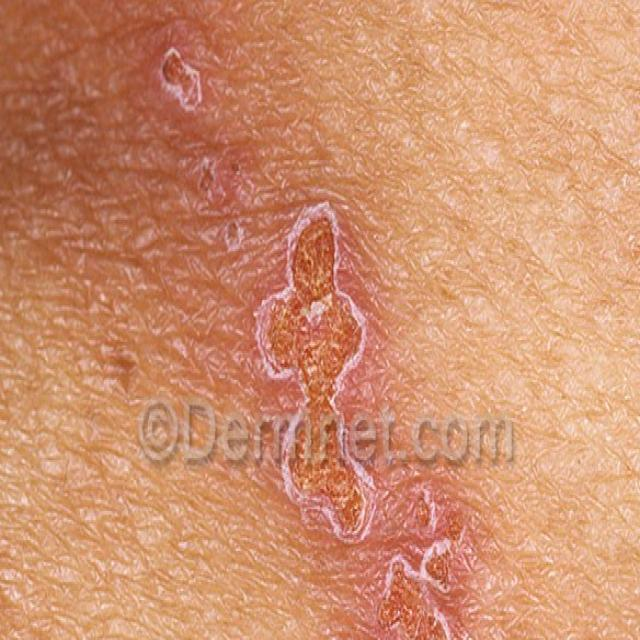Viral Infections: (206, 195, 381, 531), (375, 467, 464, 640), (136, 13, 221, 155)
